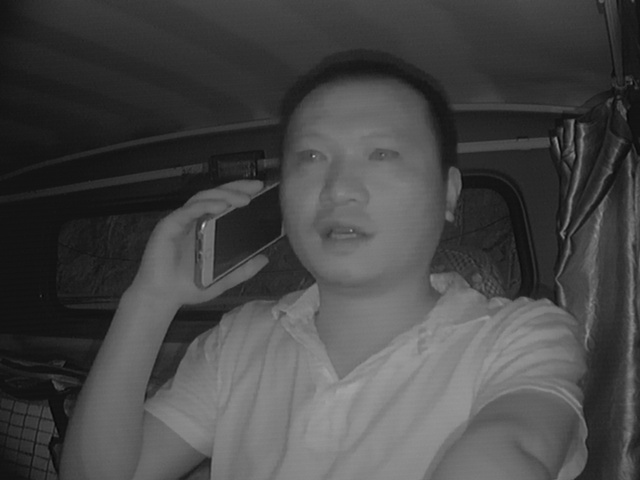hand: (143, 178, 272, 300)
